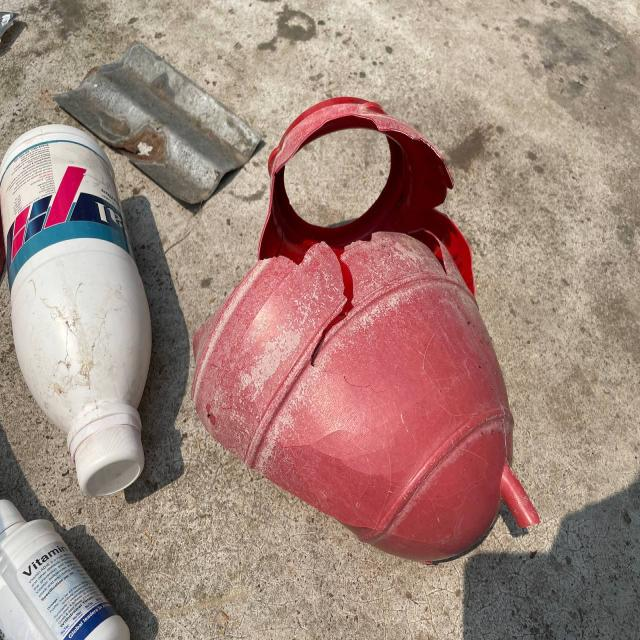Metal: (56, 29, 271, 191)
Plastics: (228, 125, 601, 604), (0, 131, 158, 494), (6, 523, 146, 640)
